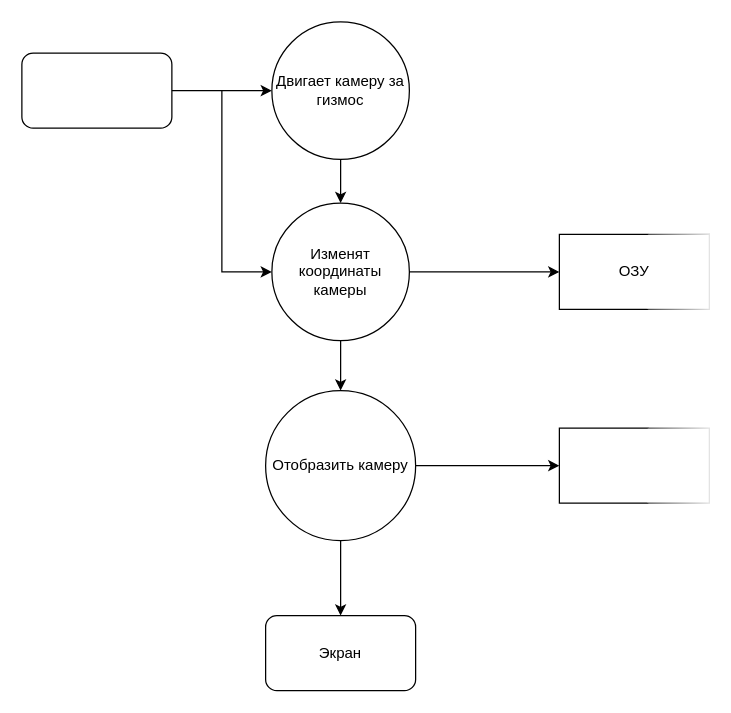
Image size: 731x713. Some labels were removed from this diagram. The centre of each missing label's shape, as x and y in pixels:
Пользователь: point (96, 90)
Сцена: point (633, 465)
